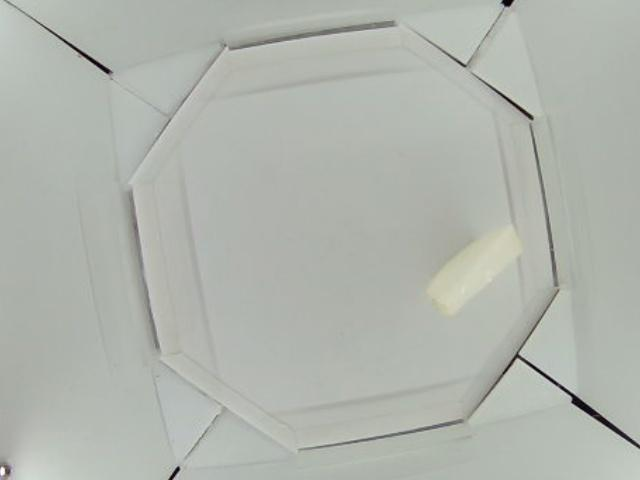Mooli: (427, 223, 526, 314)
